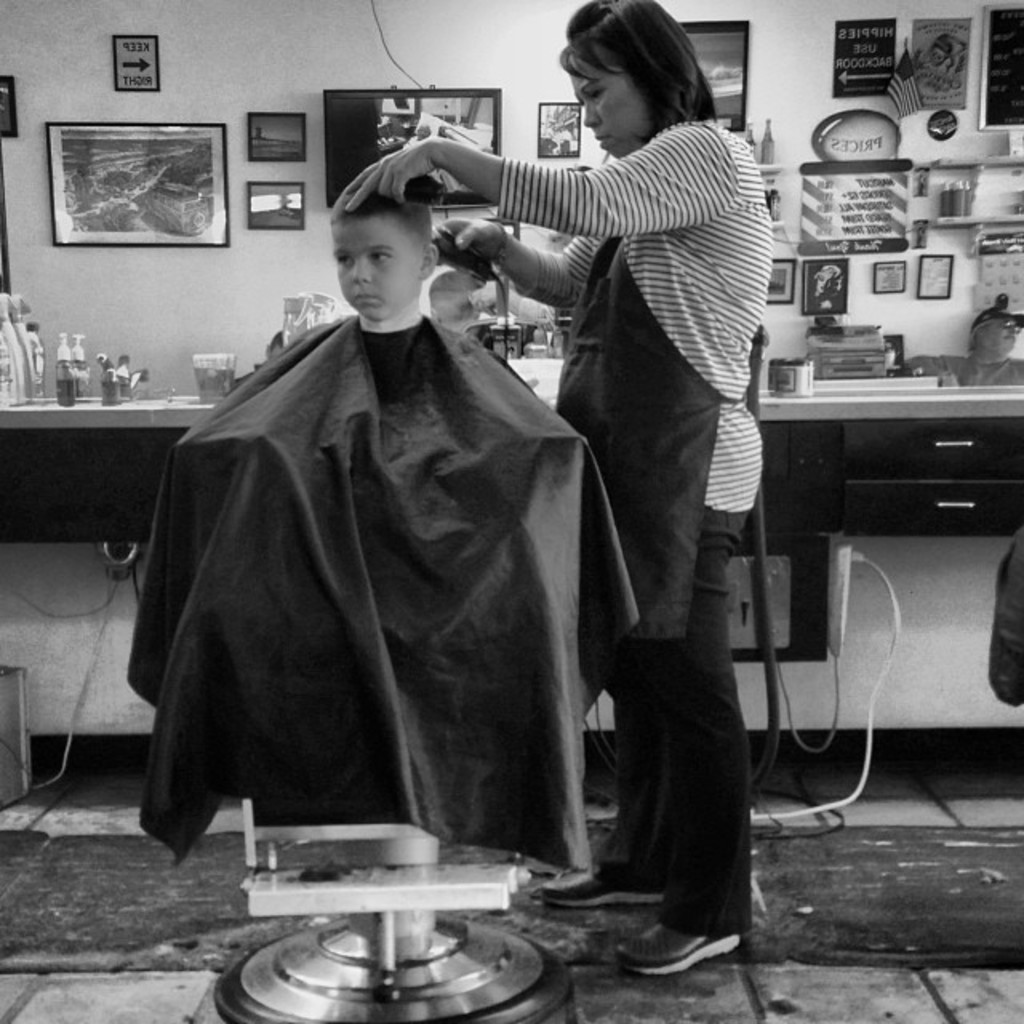Person: (123, 184, 642, 864)
